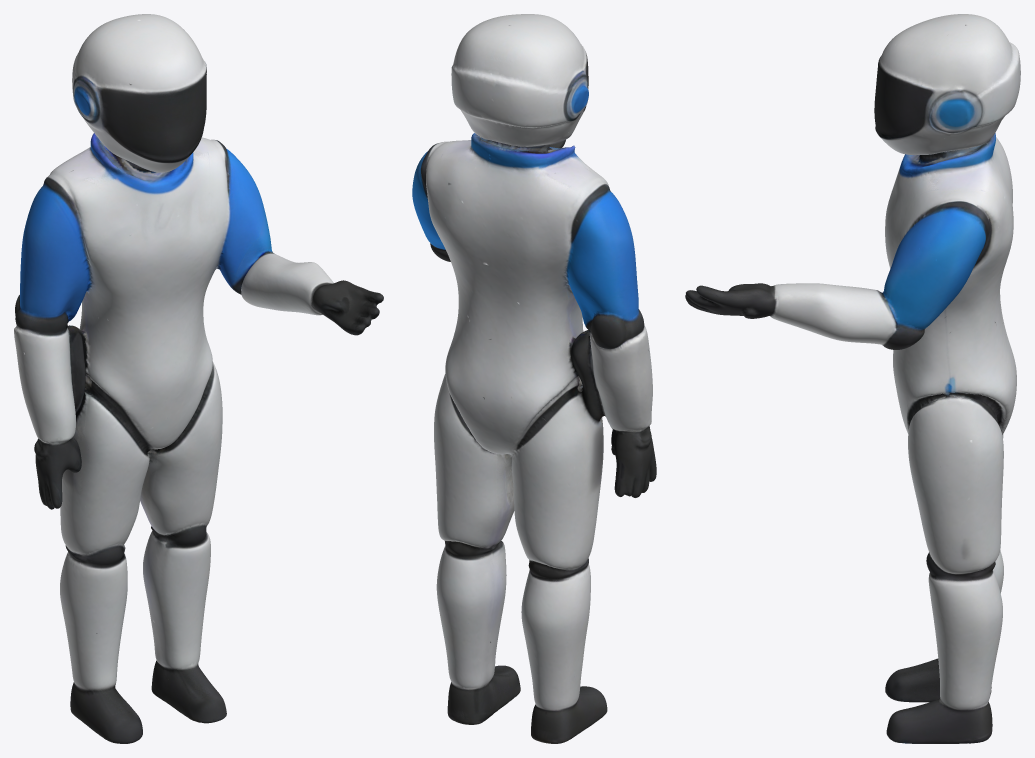
The model's file is Meshy_AI_Azure_Sentinel_0519073137_texture.glb.
The picture shows the model from 3 angles, left to right: view 1: azimuth 30°, elevation 25°; view 2: azimuth 150°, elevation 25°; view 3: azimuth 270°, elevation 25°; orthographic projection. The views are drawn at different scales.
Size of the model in its own units: 0.7421 by 2 by 0.8785.
Materials: 1 (1 with a texture image).
